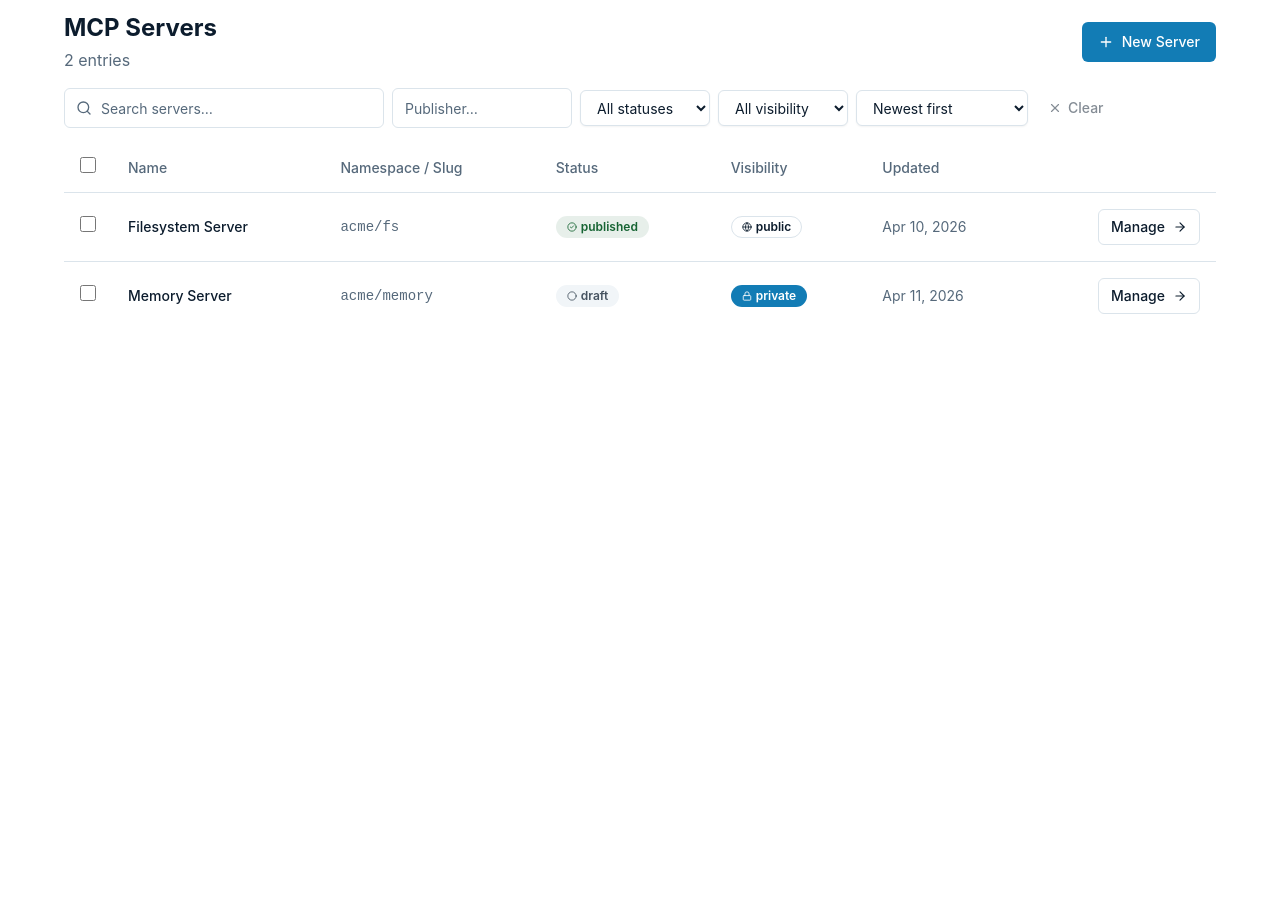
it: AdminMCPList › shows the bulk action bar when a row is selected
The width and height of the screenshot is (1280, 912).
expect the link "Filesystem Server" is shown: met, box x1=128 y1=218 x2=248 y2=234
Click the checkbox named "select filesystem server".
click(88, 224)  # box x1=80 y1=216 x2=96 y2=232
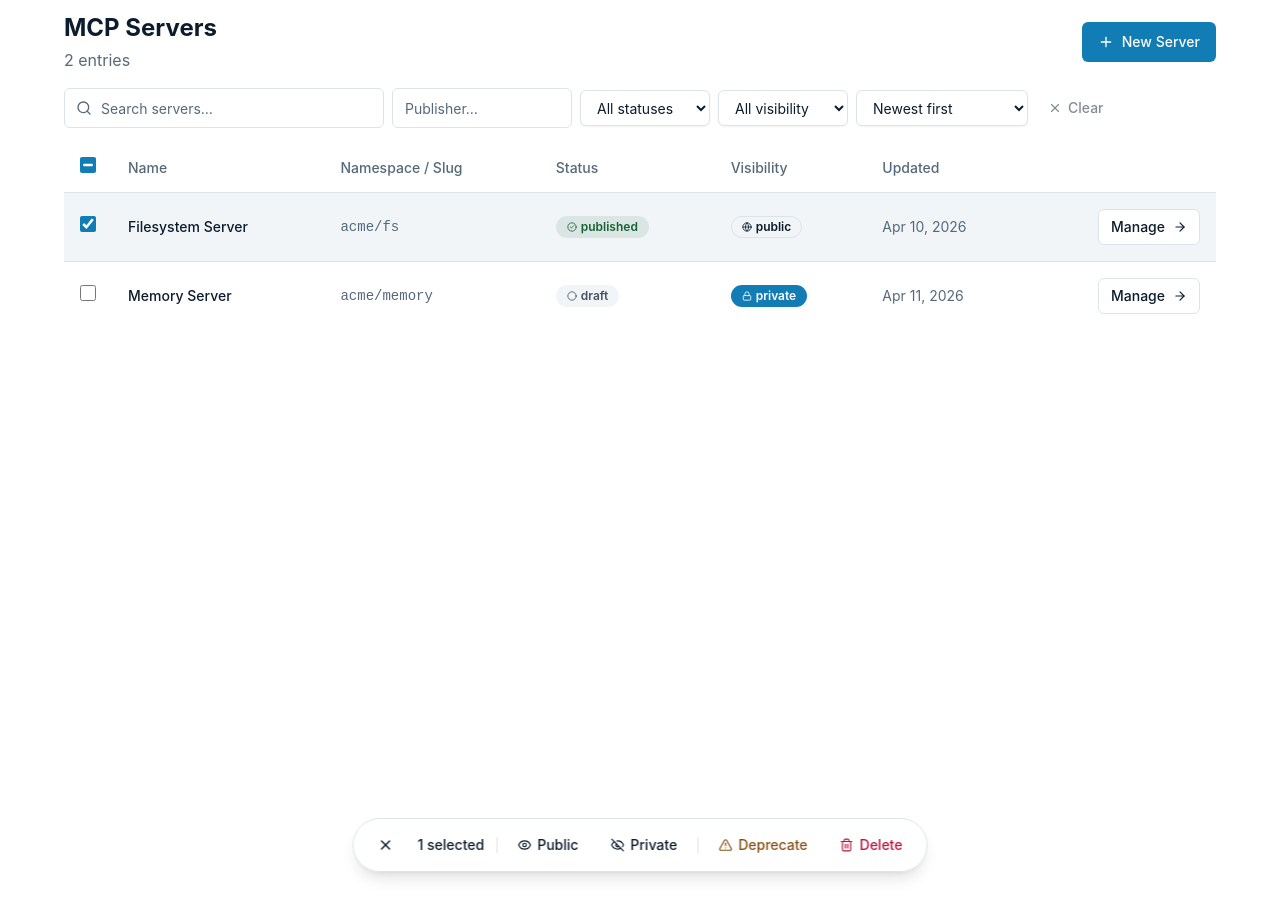
expect the element named "bulk actions" is shown: met, box x1=352 y1=818 x2=928 y2=872
expect the text "1 selected" is shown: met, box x1=414 y1=835 x2=488 y2=855
